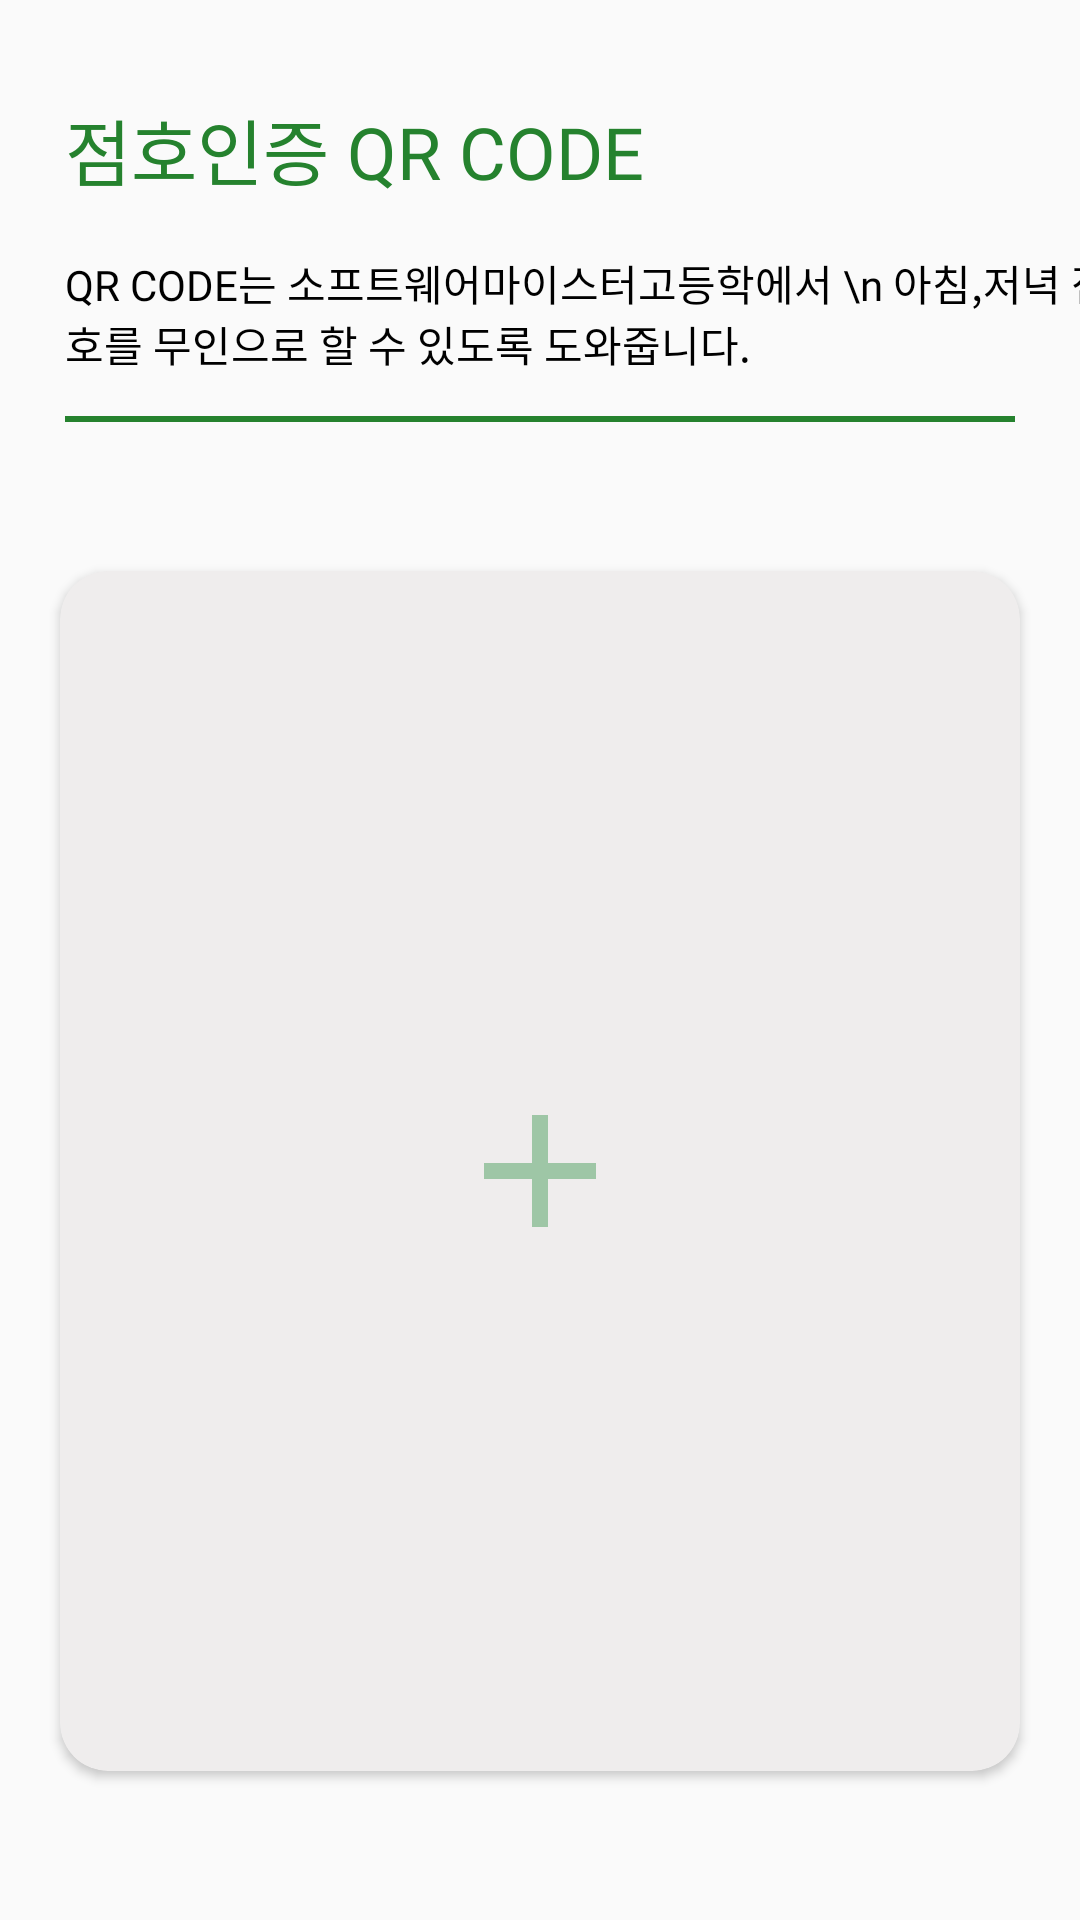

Where icons sit on this 1080×1920 app screen, as (x1, y1, x2, y2):
add: (484, 1115, 596, 1227)
